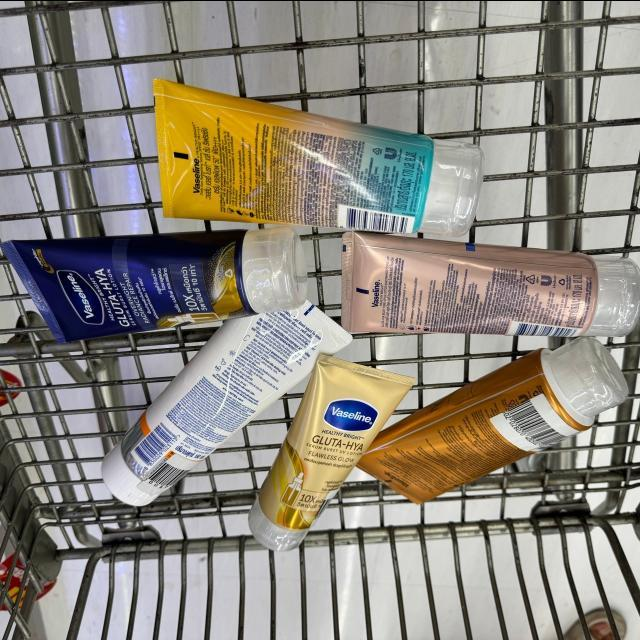Squeeze Tube: (91, 288, 362, 533), (129, 64, 498, 239), (350, 339, 635, 515), (329, 229, 640, 348), (241, 355, 417, 565), (4, 232, 316, 326)
